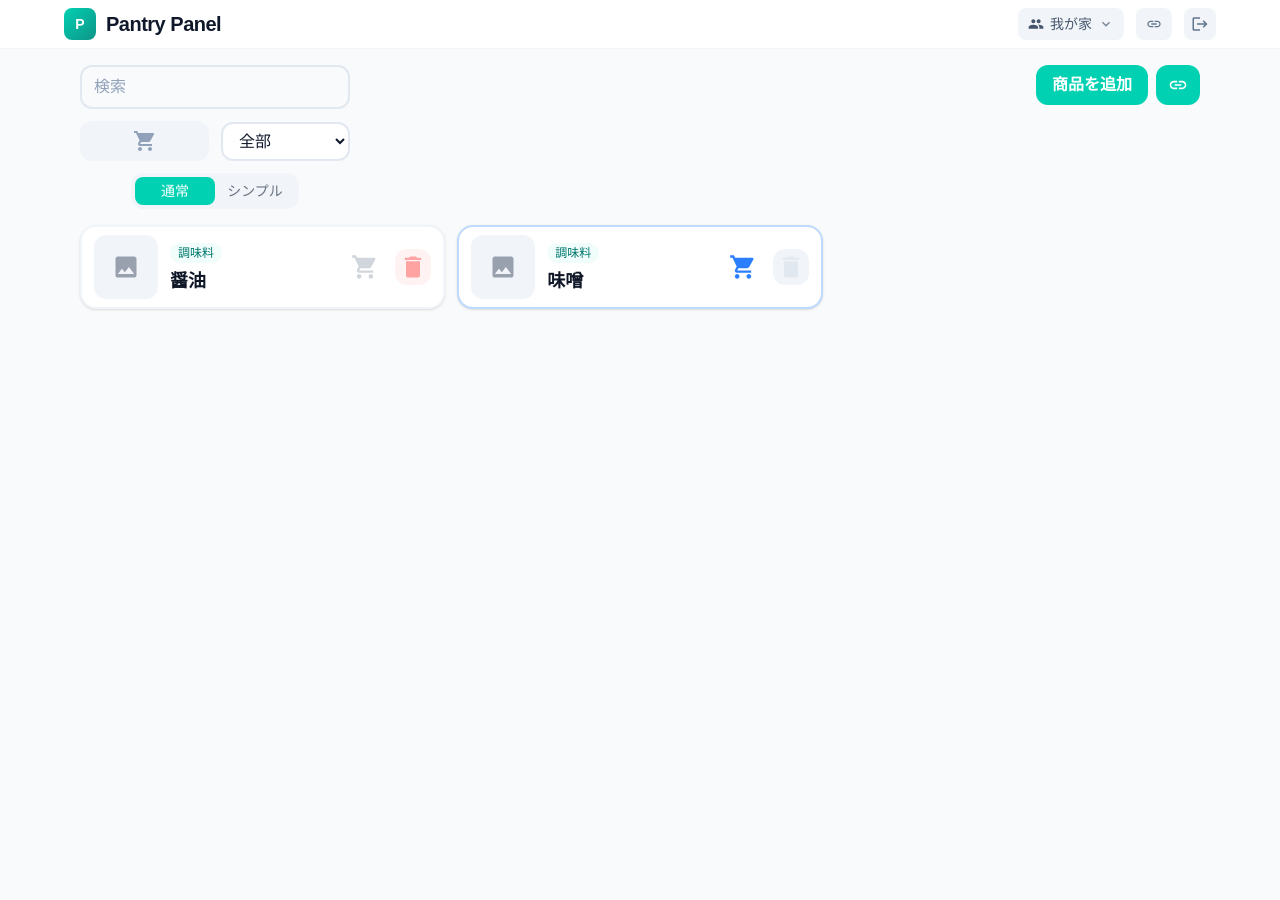
Test case: StockItemsClient › 削除ボタンをクリックし確認すると商品が削除される
Expected: the heading "醤油" is shown, x1=170 y1=270 x2=206 y2=290
Click the 1st button named "削除".
click(413, 267)  # box x1=395 y1=249 x2=431 y2=285
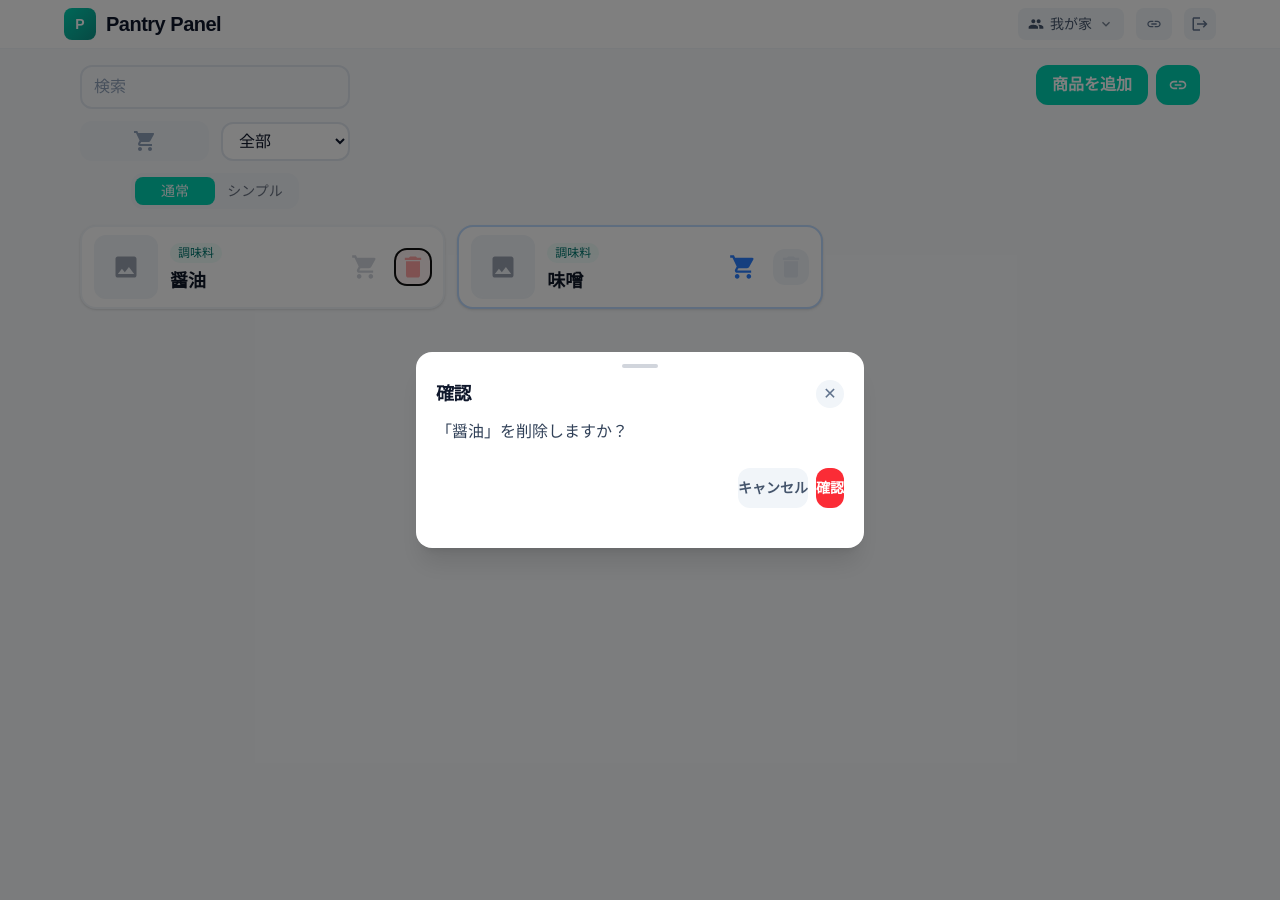
Note: ConfirmDialog が表示されるので「確認」ボタンをクリック
Click the button "確認".
click(830, 488)  # box x1=816 y1=468 x2=844 y2=508
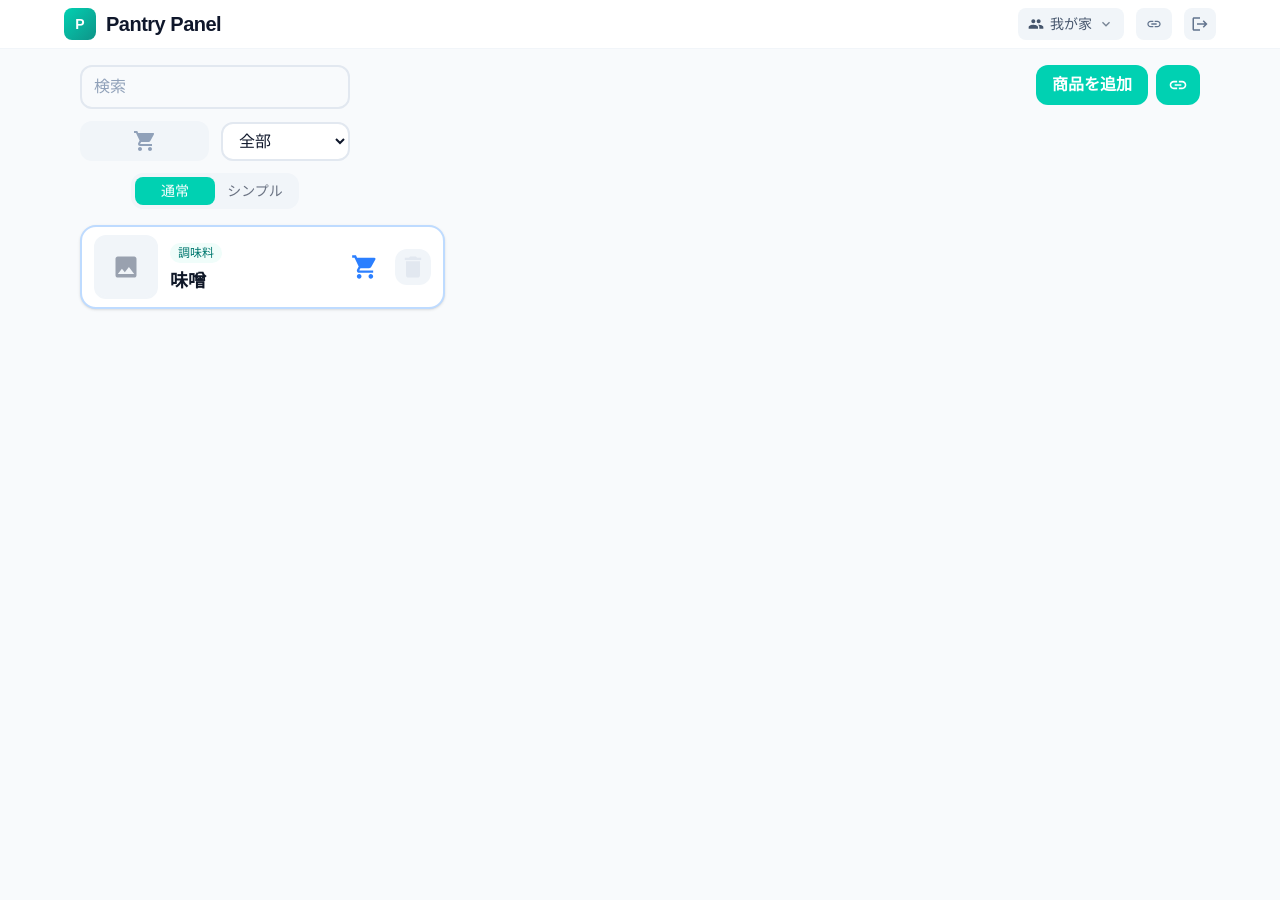
Result: the text "醤油" is gone
